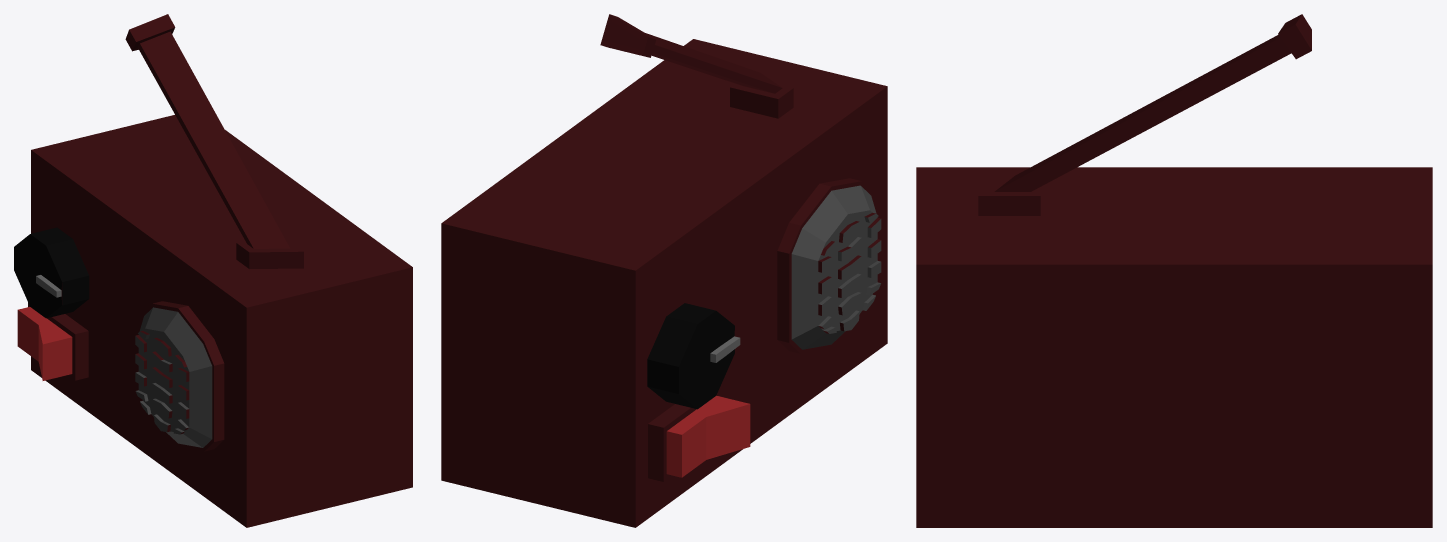
Rendered from radio.fbx.
The picture shows the model from 3 angles, left to right: view 1: azimuth 30°, elevation 25°; view 2: azimuth 150°, elevation 25°; view 3: azimuth 270°, elevation 25°; orthographic projection. The views are drawn at different scales.
Parts seen in each view (by area): view 1: Cube.017; view 2: Cube.017; view 3: Cube.017.
Part boxes in pixels (box(x1,y1,x2,y2)): Cube.017: box(14, 14, 412, 527); Cube.017: box(441, 14, 887, 527); Cube.017: box(916, 14, 1432, 527).
Bounding box in the file's own units: 467 × 806 × 832.
